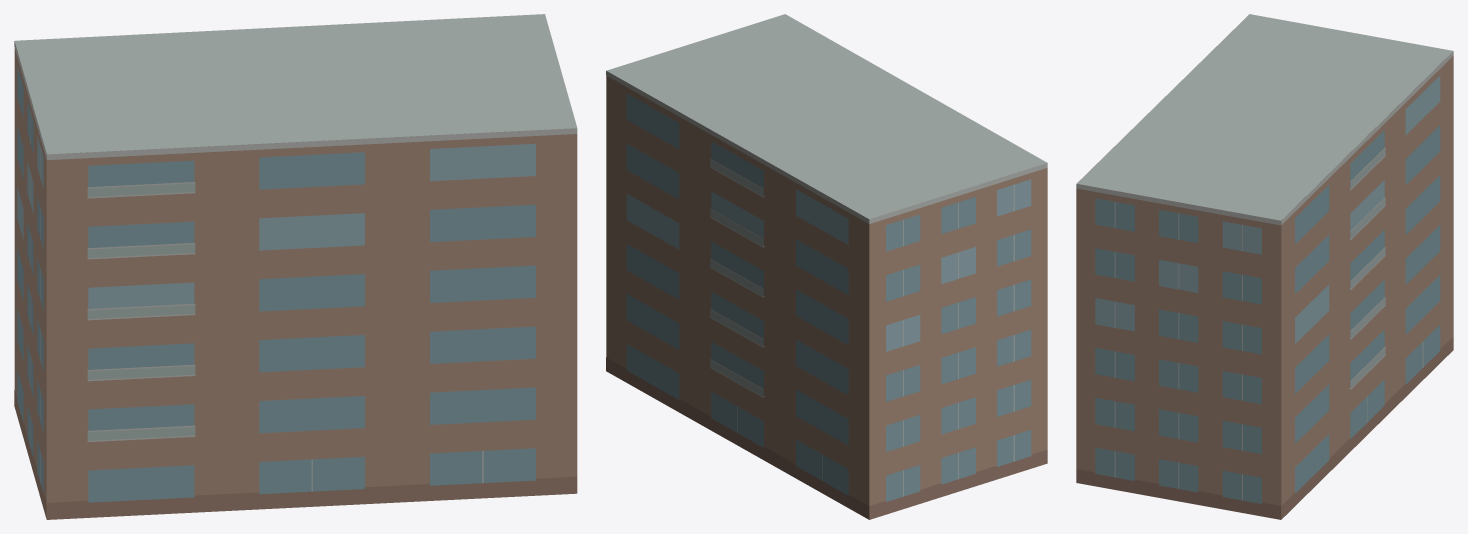
File: survey-upis-32729223.glb
The picture shows the model from 3 angles, left to right: view 1: azimuth 30°, elevation 25°; view 2: azimuth 150°, elevation 25°; view 3: azimuth 270°, elevation 25°; orthographic projection. The views are drawn at different scales.
Visible parts, largest first — view 1: survey-upis-32729223.tmp; view 2: survey-upis-32729223.tmp; view 3: survey-upis-32729223.tmp.
Part boxes in pixels (left/top/right/bottom): survey-upis-32729223.tmp: left=14, top=14, right=577, bottom=519; survey-upis-32729223.tmp: left=606, top=14, right=1047, bottom=519; survey-upis-32729223.tmp: left=1076, top=14, right=1453, bottom=519.
Size of the model in its own units: 22.83 by 15.4 by 17.6.
